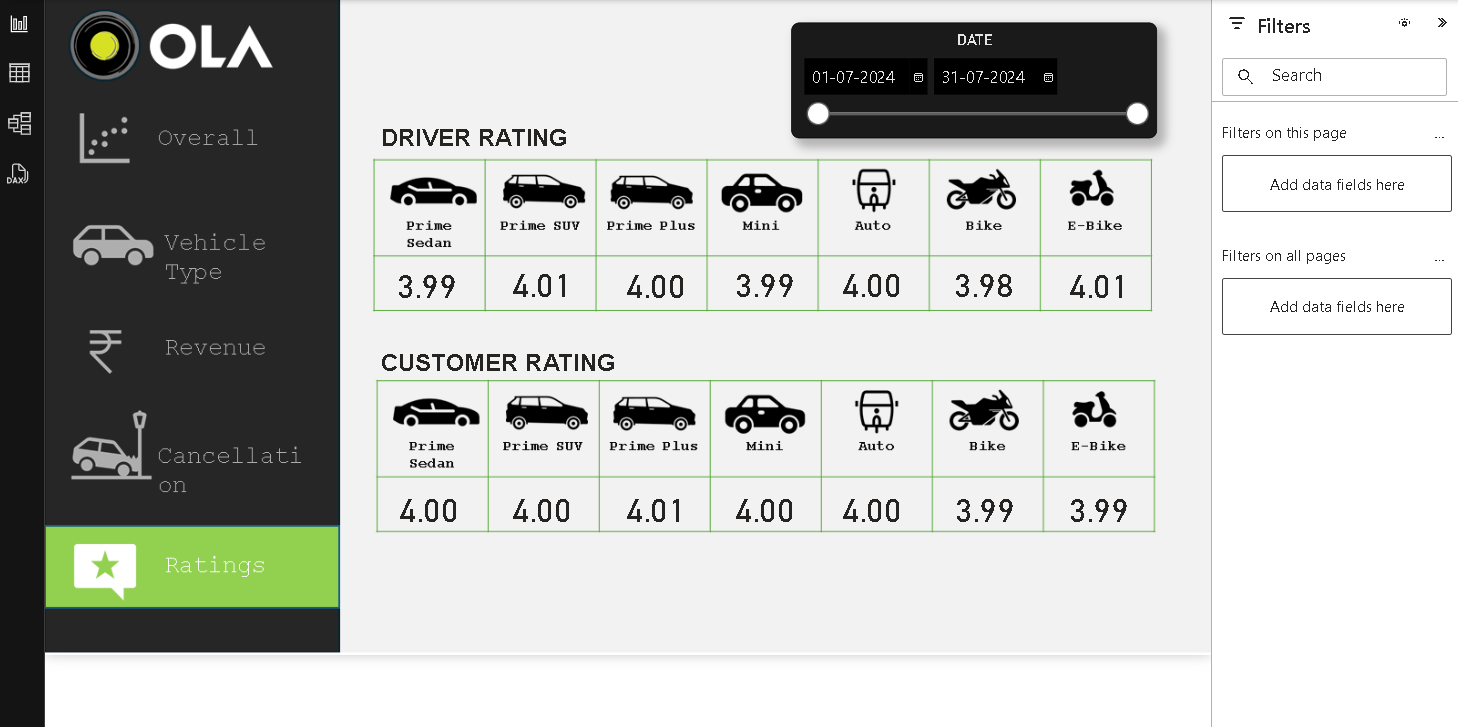

What the dashboard file says about the page in this screenshot:
{"tool":"powerbi","page":{"name":"ratings","canvas":[1280,720],"ordinal":4},"visuals":[{"type":"actionButton","box":[0,234.4,322.7,88.3],"z":0},{"type":"actionButton","box":[0,333.7,322.7,88.3],"z":1000},{"type":"actionButton","box":[0,455.2,322.7,88.3],"z":2000},{"type":"actionButton","box":[0,579.1,322.7,88.3],"z":3000},{"type":"actionButton","box":[0,108,322.7,88.3],"z":4000},{"type":"card","fields":{"Values":["Avg(July.Driver_Ratings)"]},"box":[368.2,289.4,104.5,43.9],"z":5000},{"type":"card","fields":{"Values":["Avg(July.Driver_Ratings)"]},"box":[493.9,287.9,104.5,43.9],"z":6000},{"type":"card","fields":{"Values":["Avg(July.Driver_Ratings)"]},"box":[1104.5,289.4,104.5,43.9],"z":7000},{"type":"card","fields":{"Values":["Avg(July.Driver_Ratings)"]},"box":[978.8,287.9,104.5,43.9],"z":8000},{"type":"card","fields":{"Values":["Avg(July.Driver_Ratings)"]},"box":[856.1,287.9,104.5,43.9],"z":9000},{"type":"card","fields":{"Values":["Avg(July.Driver_Ratings)"]},"box":[737.9,287.9,104.5,43.9],"z":10000},{"type":"card","fields":{"Values":["Avg(July.Driver_Ratings)"]},"box":[618.2,289.4,104.5,43.9],"z":11000},{"type":"card","fields":{"Values":["Avg(July.Customer_Rating)"]},"box":[369.7,534.9,104.5,43.9],"z":12000},{"type":"card","fields":{"Values":["Avg(July.Customer_Rating)"]},"box":[493.9,534.9,104.5,43.9],"z":13000},{"type":"card","fields":{"Values":["Avg(July.Customer_Rating)"]},"box":[618.2,534.9,104.5,43.9],"z":14000},{"type":"card","fields":{"Values":["Avg(July.Customer_Rating)"]},"box":[737.9,534.9,104.5,43.9],"z":15000},{"type":"card","fields":{"Values":["Avg(July.Customer_Rating)"]},"box":[856.1,534.9,104.5,43.9],"z":16000},{"type":"card","fields":{"Values":["Avg(July.Customer_Rating)"]},"box":[980.3,534.9,104.5,43.9],"z":17000},{"type":"card","fields":{"Values":["Avg(July.Customer_Rating)"]},"box":[1104.5,534.9,104.5,43.9],"z":18000},{"type":"textbox","box":[363.6,130.3,216.7,43.9],"z":19000},{"type":"textbox","box":[363.6,377.3,275.8,43.9],"z":20000},{"type":"slicer","title":"DATE","fields":{"Values":["July.Date"]},"box":[819.7,24.2,401.5,127.3],"z":21000}]}

Visuals, with their boxes on the page's 1280x720 design canvas (x1, y1, x2, y2). These are canvas units, not pixel positions in the 1458x727 screenshot, which may show the page scaled, cropped or inside an application window:
actionButton: (0,234,323,323)
actionButton: (0,334,323,422)
actionButton: (0,455,323,544)
actionButton: (0,579,323,667)
actionButton: (0,108,323,196)
card - Avg(July.Driver_Ratings): (368,289,473,333)
card - Avg(July.Driver_Ratings): (494,288,598,332)
card - Avg(July.Driver_Ratings): (1104,289,1209,333)
card - Avg(July.Driver_Ratings): (979,288,1083,332)
card - Avg(July.Driver_Ratings): (856,288,961,332)
card - Avg(July.Driver_Ratings): (738,288,842,332)
card - Avg(July.Driver_Ratings): (618,289,723,333)
card - Avg(July.Customer_Rating): (370,535,474,579)
card - Avg(July.Customer_Rating): (494,535,598,579)
card - Avg(July.Customer_Rating): (618,535,723,579)
card - Avg(July.Customer_Rating): (738,535,842,579)
card - Avg(July.Customer_Rating): (856,535,961,579)
card - Avg(July.Customer_Rating): (980,535,1085,579)
card - Avg(July.Customer_Rating): (1104,535,1209,579)
textbox: (364,130,580,174)
textbox: (364,377,639,421)
"DATE" slicer: (820,24,1221,152)
